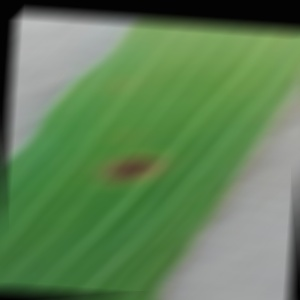Bacterial_Leaf_Blight: (102, 149, 167, 188)
